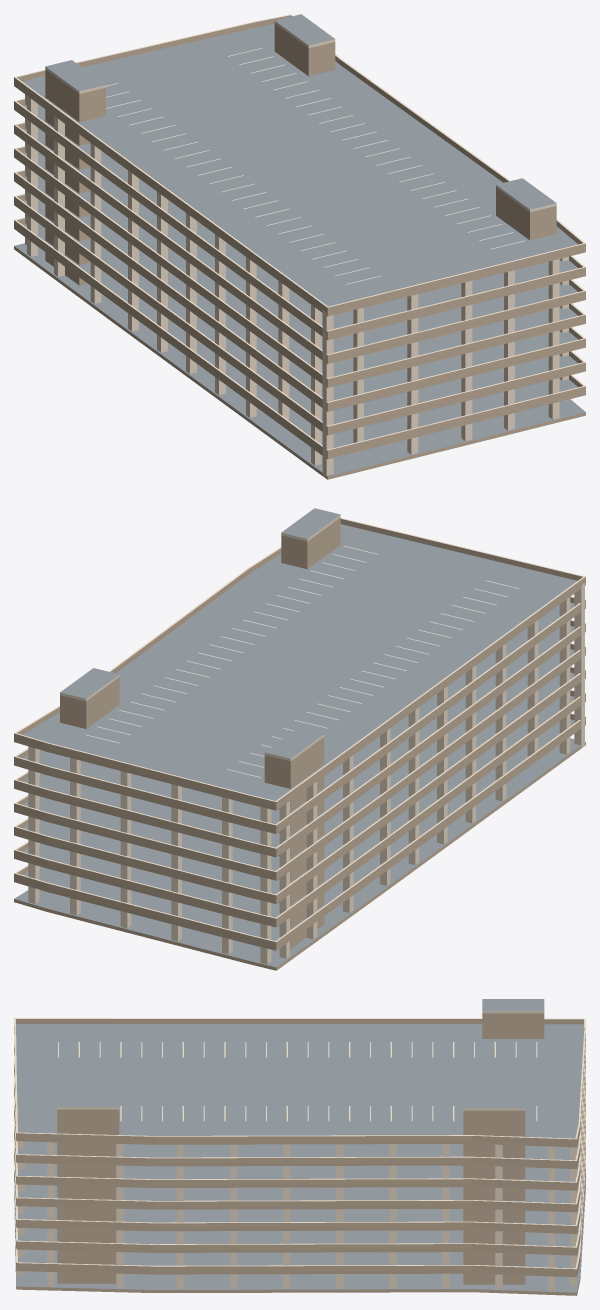
Rendered from dc-au-sports-center-parking-garage.glb.
3 renders of one model, top to bottom at view 1: azimuth 30°, elevation 25°; view 2: azimuth 150°, elevation 25°; view 3: azimuth 270°, elevation 25°, orthographic. The views are drawn at different scales.
Parts seen in each view (by area): view 1: Sports Center Parking Garage; view 2: Sports Center Parking Garage; view 3: Sports Center Parking Garage.
Part boxes in pixels (<box>): Sports Center Parking Garage: <box>14,14,585,479</box>; Sports Center Parking Garage: <box>14,508,585,970</box>; Sports Center Parking Garage: <box>14,999,585,1295</box>.
Size of the model in its own units: 37.97 by 26.2 by 75.64.
